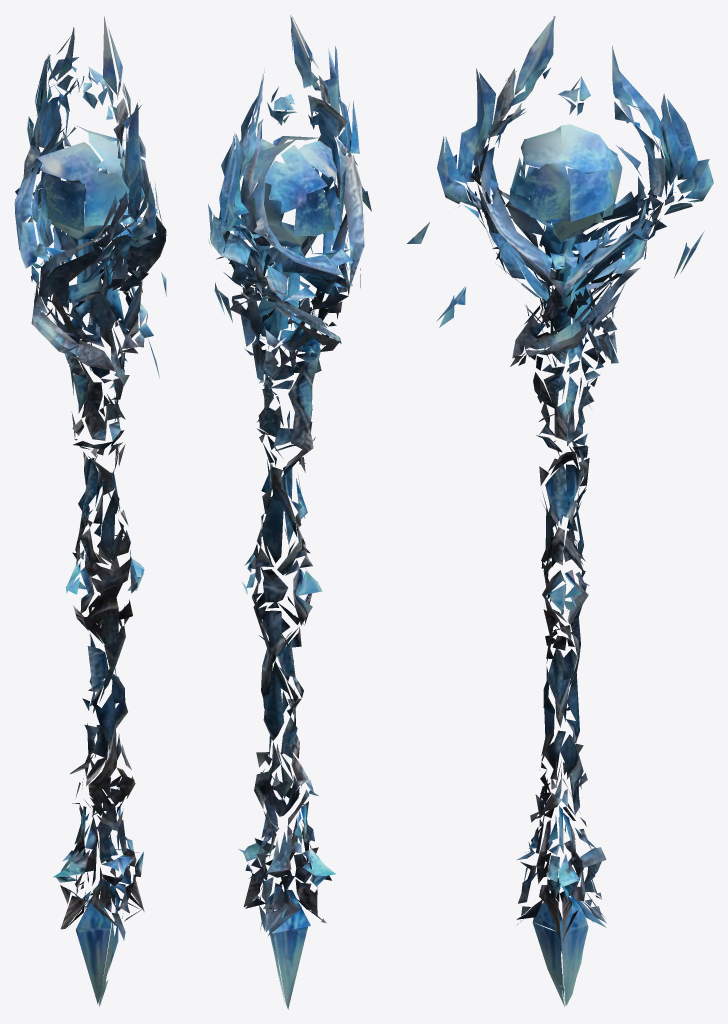
File: ice_staff.glb
3 views of the same model, side by side, from view 1: azimuth 30°, elevation 25°; view 2: azimuth 150°, elevation 25°; view 3: azimuth 270°, elevation 25° (orthographic).
Visible parts, largest first — view 1: ice_staff; view 2: ice_staff; view 3: ice_staff.
Part boxes in pixels (left/top/right/bottom): ice_staff: left=14, top=16, right=166, bottom=1006; ice_staff: left=208, top=15, right=371, bottom=1009; ice_staff: left=407, top=16, right=713, bottom=1007.
Size of the model in its own units: 0.2483 by 1.81 by 0.518.
1 material, 1 textured.
